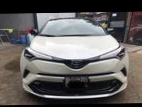car: (15, 15, 130, 102)
